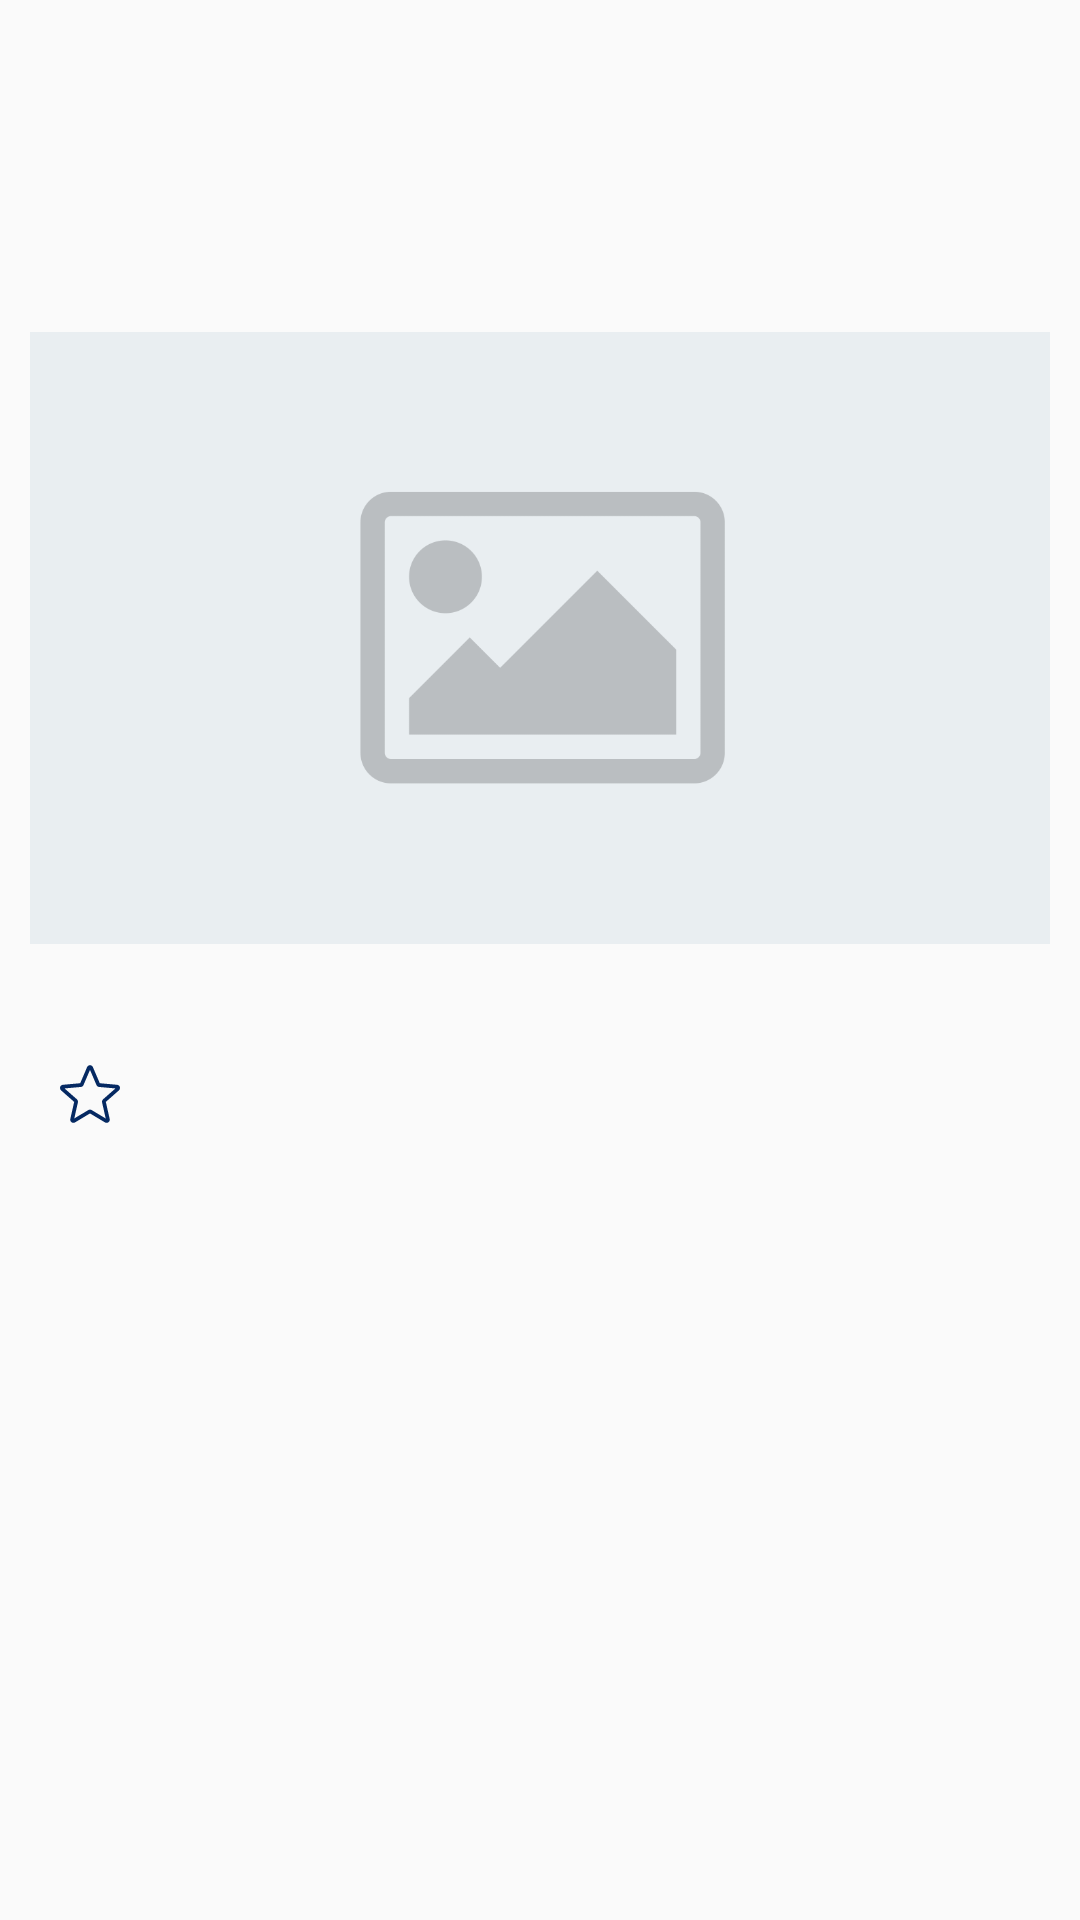

Named icons in this screenshot (1080 x 1920) and their bounding boxes, (x1, y1, x2, y2):
favorite medium: (60, 1065, 120, 1123)
